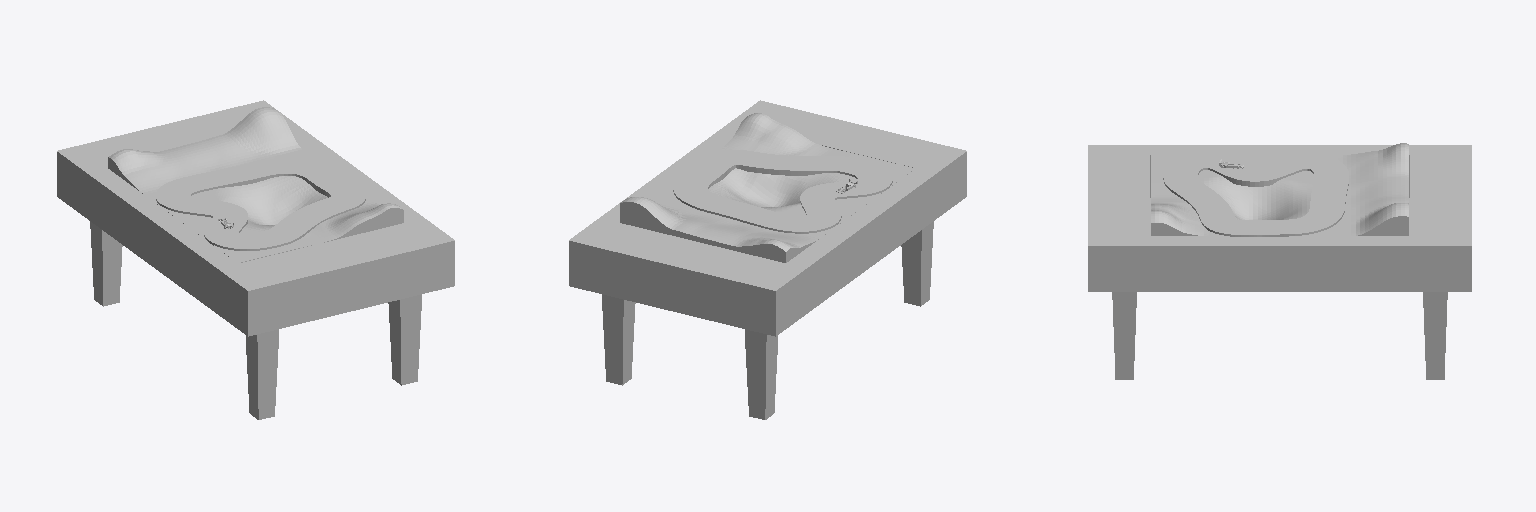
Rendered from NewestTisch71.obj.
3 views of the same model, side by side, from view 1: azimuth 30°, elevation 25°; view 2: azimuth 150°, elevation 25°; view 3: azimuth 270°, elevation 25° (orthographic).
Visible parts, largest first — view 1: Tischplatte_wood_table_001, Landschaft_aerial_grass_rock, off, Bein1_wood_table_001, Bein4_wood_table_001.003, Bein3_wood_table_001.002; view 2: Tischplatte_wood_table_001, Landschaft_aerial_grass_rock, off, Bein2_wood_table_001.001, Bein3_wood_table_001.002, Bein4_wood_table_001.003; view 3: Tischplatte_wood_table_001, Landschaft_aerial_grass_rock, off, Bein1_wood_table_001, Bein2_wood_table_001.001.
Part boxes in pixels (x1,y1,x2,y2): Tischplatte_wood_table_001: (57,100,454,336); Landschaft_aerial_grass_rock: (108,107,403,262); off: (156,159,365,250); Bein1_wood_table_001: (388,294,421,385); Bein4_wood_table_001.003: (246,329,278,419); Bein3_wood_table_001.002: (90,221,122,306); Tischplatte_wood_table_001: (569,100,966,336); Landschaft_aerial_grass_rock: (620,113,915,262); off: (673,150,892,233); Bein2_wood_table_001.001: (602,294,635,385); Bein3_wood_table_001.002: (745,329,777,419); Bein4_wood_table_001.003: (901,221,933,306); Tischplatte_wood_table_001: (1088,145,1471,291); Landschaft_aerial_grass_rock: (1151,143,1408,235); off: (1163,153,1348,236); Bein1_wood_table_001: (1112,292,1136,379); Bein2_wood_table_001.001: (1423,292,1447,379).
Size of the model in its own units: 5 by 3.91 by 8.